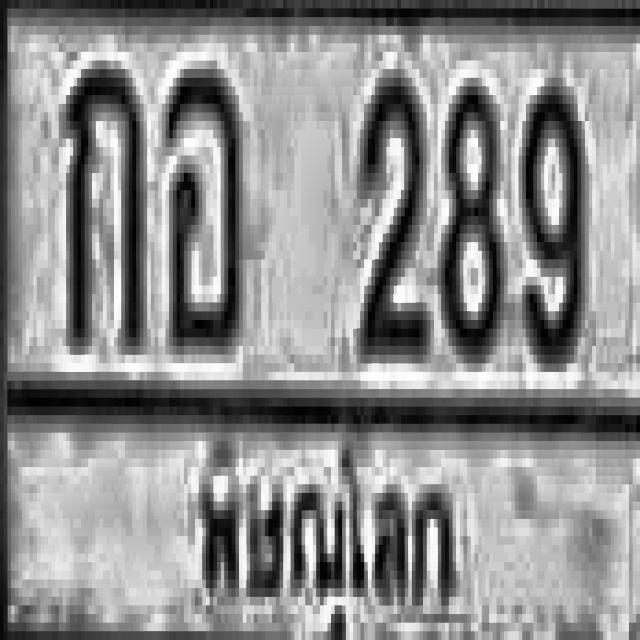license-plate: (7, 8, 639, 640)
